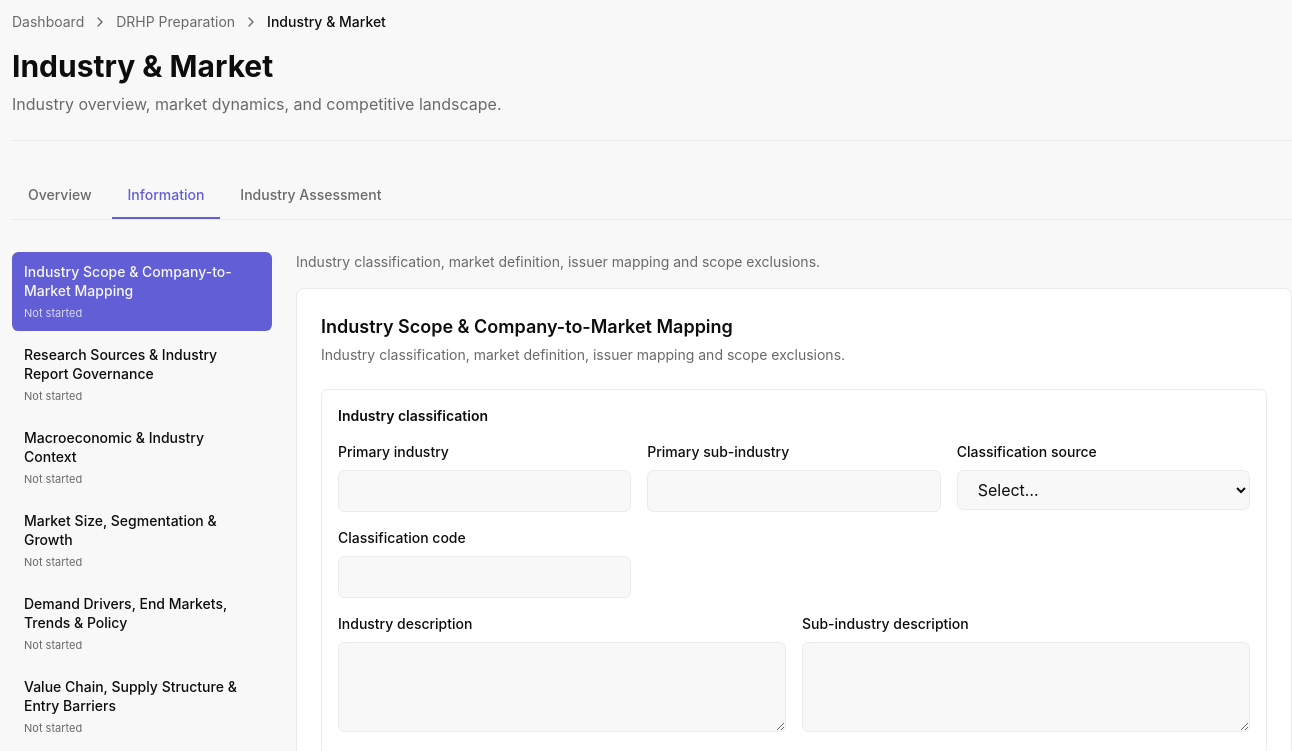
it: Industry & Market workstream UI (IM2 API-backed) › renders Overview and Industry Assessment after load
Click the tab "Overview". click: [60, 196]
box: [12,173,108,219]
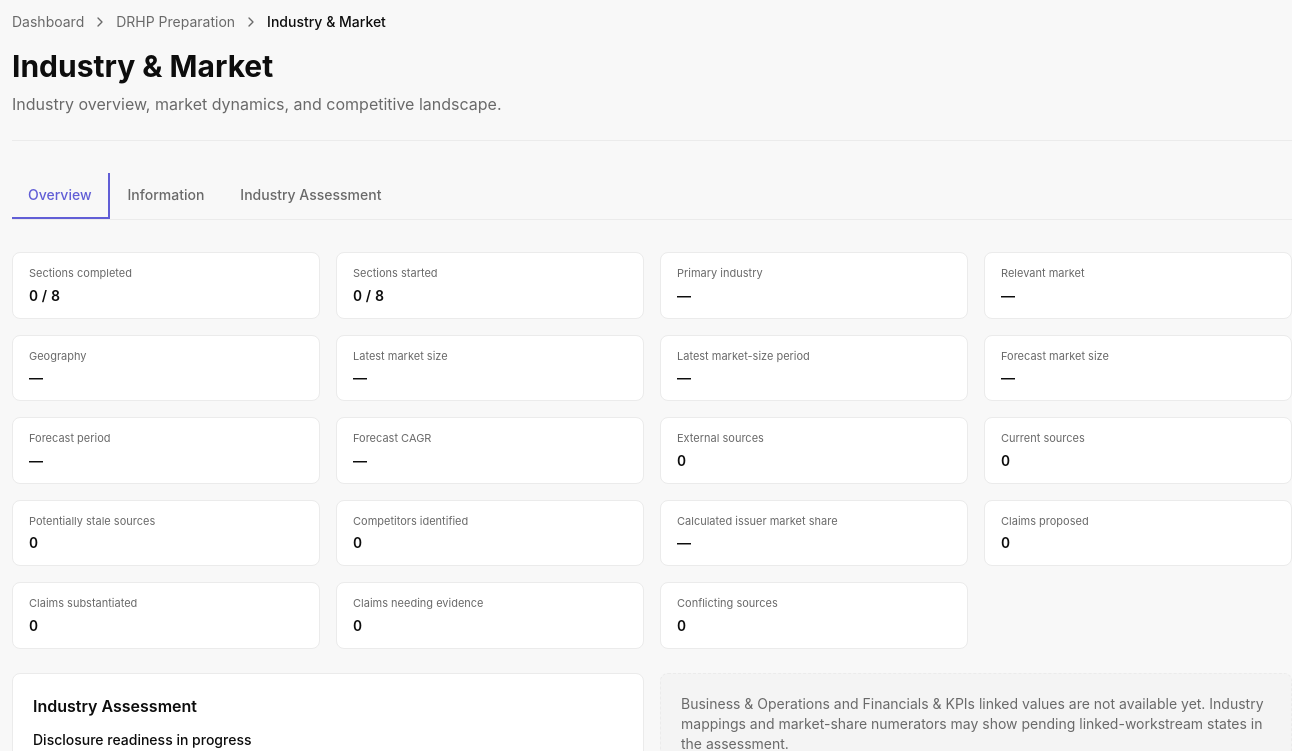
Check: the text "Sections completed" is shown, box [29,266,132,280]
Click the tab "Industry Assessment". click: [311, 196]
box: [224,173,397,219]
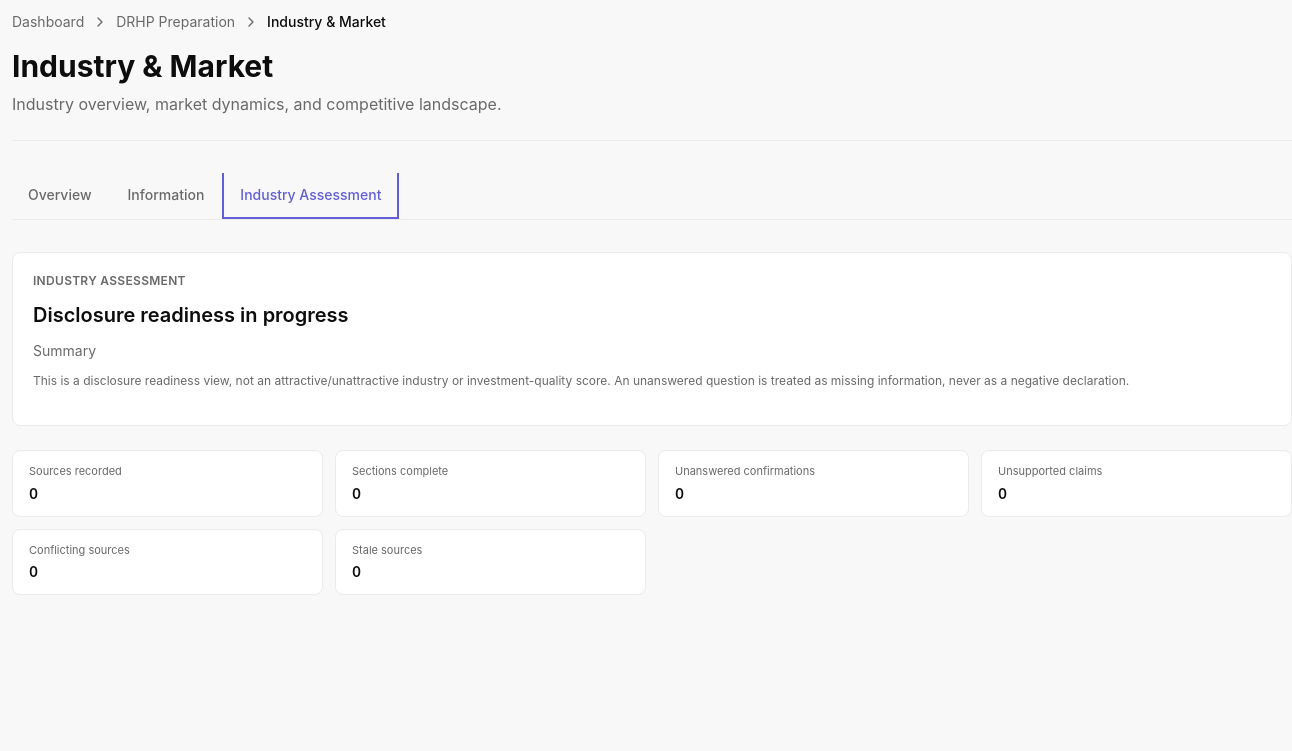
Check: the text "attractive/unattractive industry" is shown, box [33,373,1129,388]
